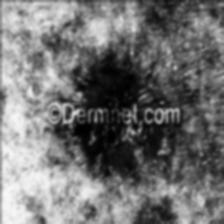Potentially Malignant Skin Tumors: (68, 53, 152, 177)
